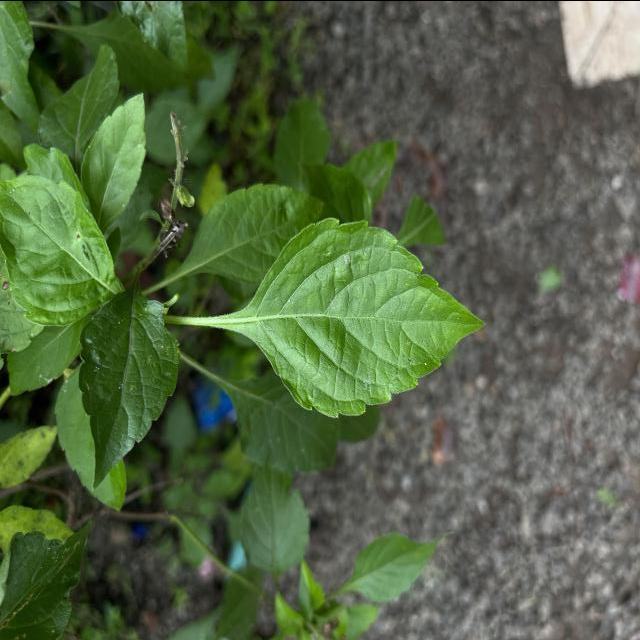Ocimum gratissimum: (200, 214, 490, 420), (76, 274, 183, 494), (0, 166, 123, 330)
